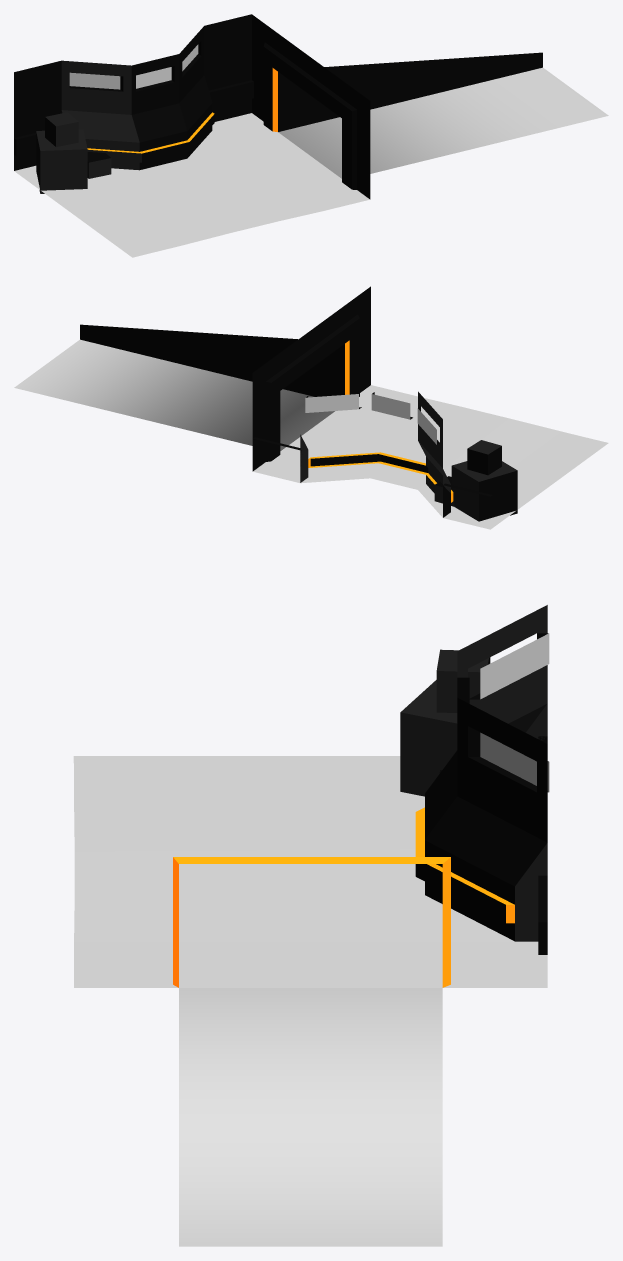
Rendered from 3Tile1.fbx.
The picture shows the model from 3 angles, top to bottom: view 1: azimuth 30°, elevation 25°; view 2: azimuth 150°, elevation 25°; view 3: azimuth 270°, elevation 25°; orthographic projection. The views are drawn at different scales.
Visible parts, largest first — view 1: Plane, Cube.027, Cube.031, Cube.032; view 2: Plane, Cube.027, Cube.031; view 3: Plane, Cube.027, Cube.031.
Boxes of the visible parts, left/top/right/bottom form: Plane: left=14, top=14, right=608, bottom=257; Cube.027: left=36, top=129, right=87, bottom=193; Cube.031: left=45, top=112, right=78, bottom=147; Cube.032: left=87, top=152, right=111, bottom=178; Plane: left=14, top=286, right=608, bottom=529; Cube.027: left=451, top=461, right=517, bottom=521; Cube.031: left=467, top=440, right=501, bottom=475; Plane: left=73, top=605, right=549, bottom=1246; Cube.027: left=400, top=680, right=457, bottom=796; Cube.031: left=436, top=649, right=490, bottom=712.
Size of the model in its own units: 18942 by 3784 by 7752.
